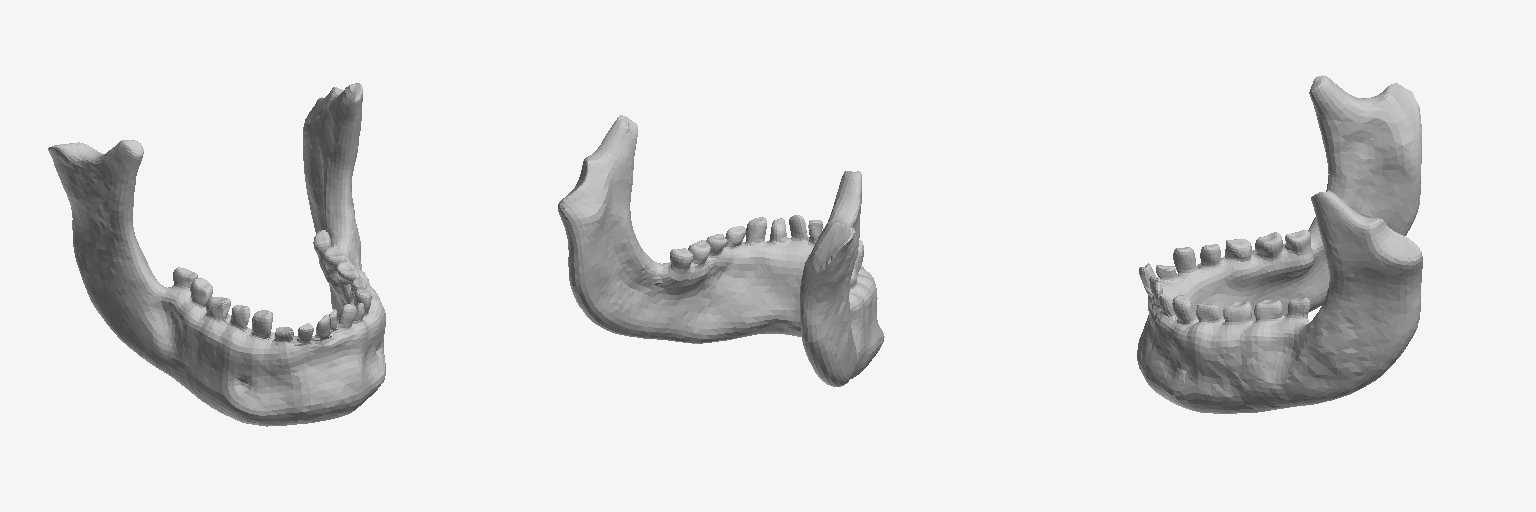
The model's file is Skull_5_Jaw.obj.
3 views of the same model, side by side, from view 1: azimuth 30°, elevation 25°; view 2: azimuth 150°, elevation 25°; view 3: azimuth 270°, elevation 25° (orthographic).
Parts seen in each view (by area): view 1: Skull_5_CM_Jaw_skull_5_quijada; view 2: Skull_5_CM_Jaw_skull_5_quijada; view 3: Skull_5_CM_Jaw_skull_5_quijada.
Part boxes in pixels (x1,y1,x2,y2): Skull_5_CM_Jaw_skull_5_quijada: (48, 83, 385, 426); Skull_5_CM_Jaw_skull_5_quijada: (558, 115, 884, 386); Skull_5_CM_Jaw_skull_5_quijada: (1137, 75, 1422, 413).
Bounding box in the file's own units: 7.78 × 6.48 × 6.66.